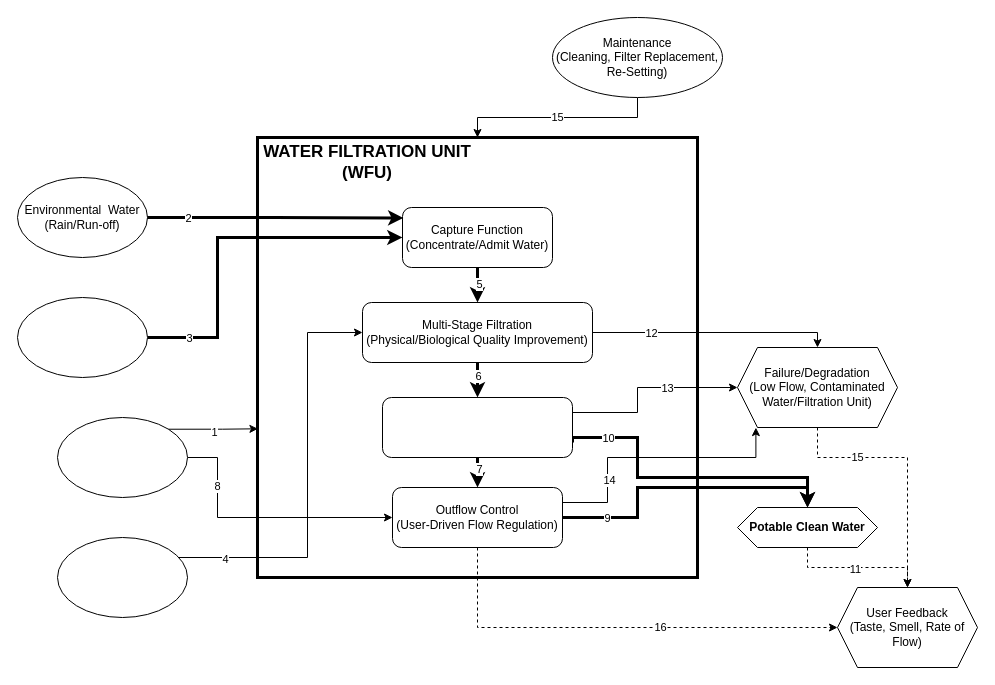
This 995x685 diagram has some shape labels left out. Here are the shapes that lost their labels. From the top down, the centre of each, then its label:
At (x=82, y=337): "Contaminants (Solids, Microbes)".
At (x=477, y=427): "Storage (Clean Water Reservoir & Access)".
At (x=122, y=457): "Human Inputs (Setup, Orientation)".
At (x=122, y=577): "Energy Inputs (Gravity)".
